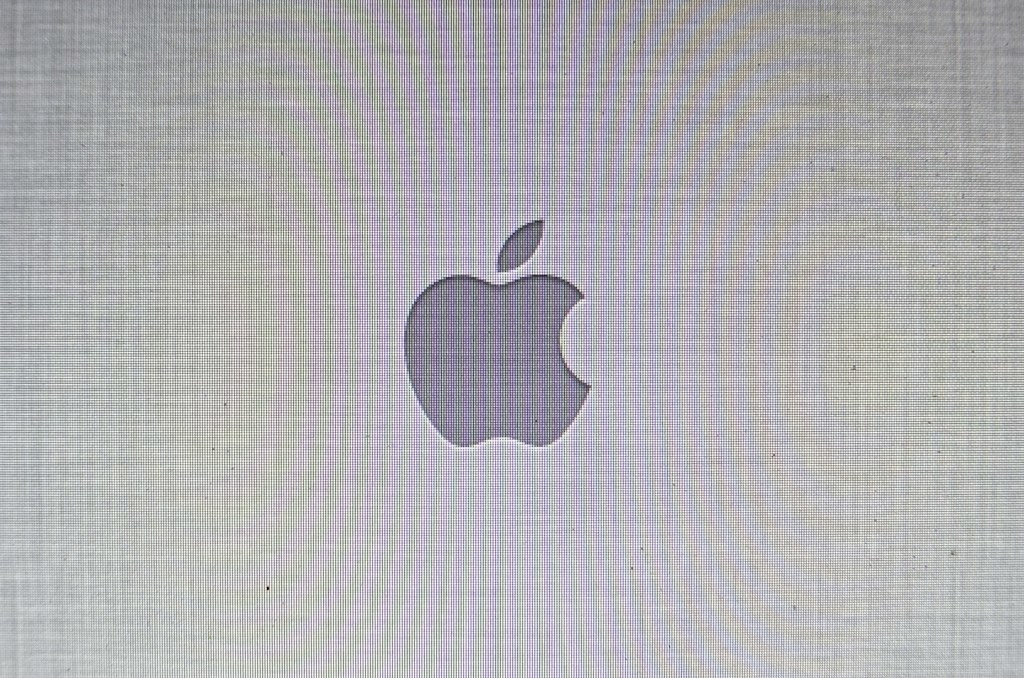Apple: (408, 222, 604, 443)
